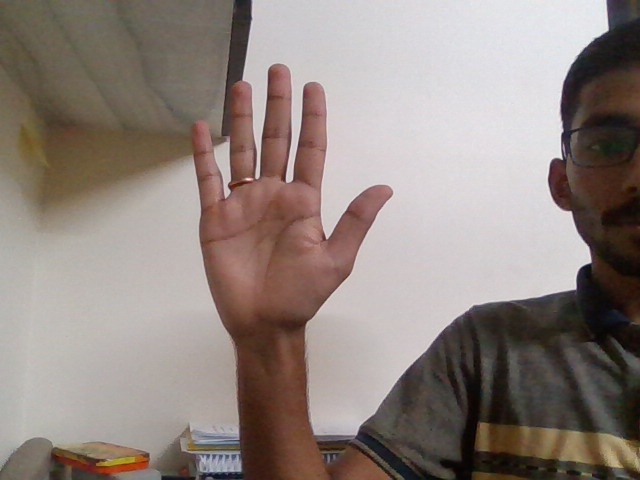Hello: (159, 55, 409, 353)
